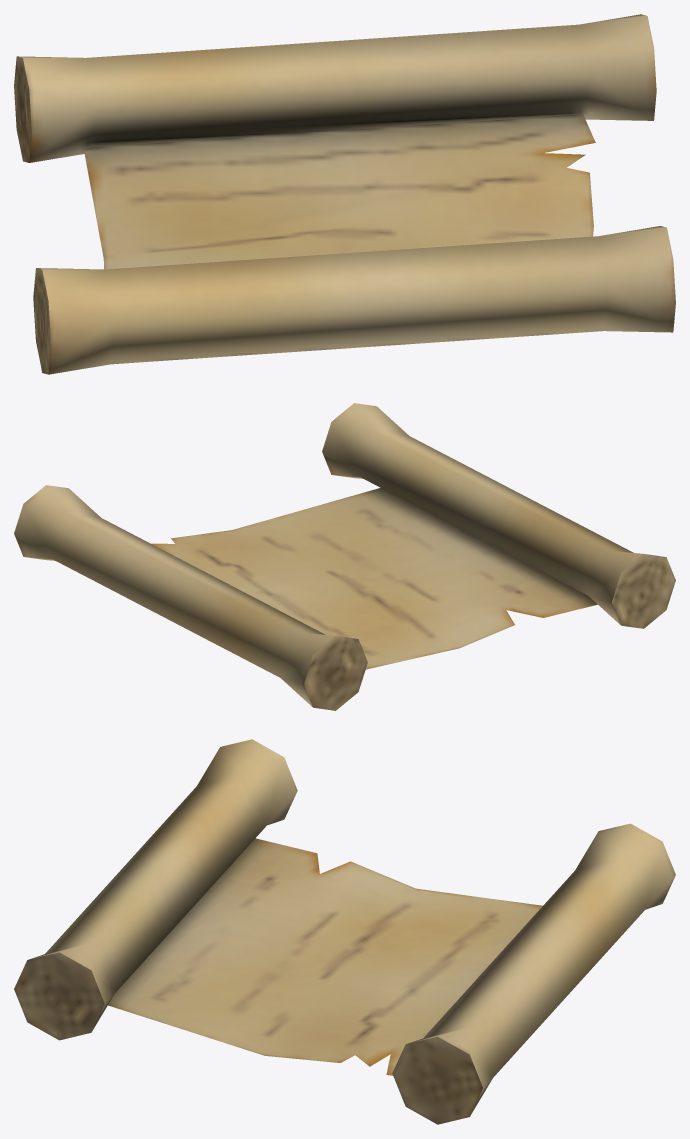
Rendered from Scroll 2.fbx.
3 views of the same model, one above another, from view 1: azimuth 30°, elevation 25°; view 2: azimuth 150°, elevation 25°; view 3: azimuth 270°, elevation 25° (orthographic). The views are drawn at different scales.
Visible parts, largest first — view 1: Scroll2; view 2: Scroll2; view 3: Scroll2.
Boxes of the visible parts, x1,y1,x2,y2 form: Scroll2: (14, 14, 675, 374); Scroll2: (14, 403, 675, 710); Scroll2: (14, 739, 675, 1124).
Size of the model in its own units: 0.6794 by 0.0895 by 0.6091.
